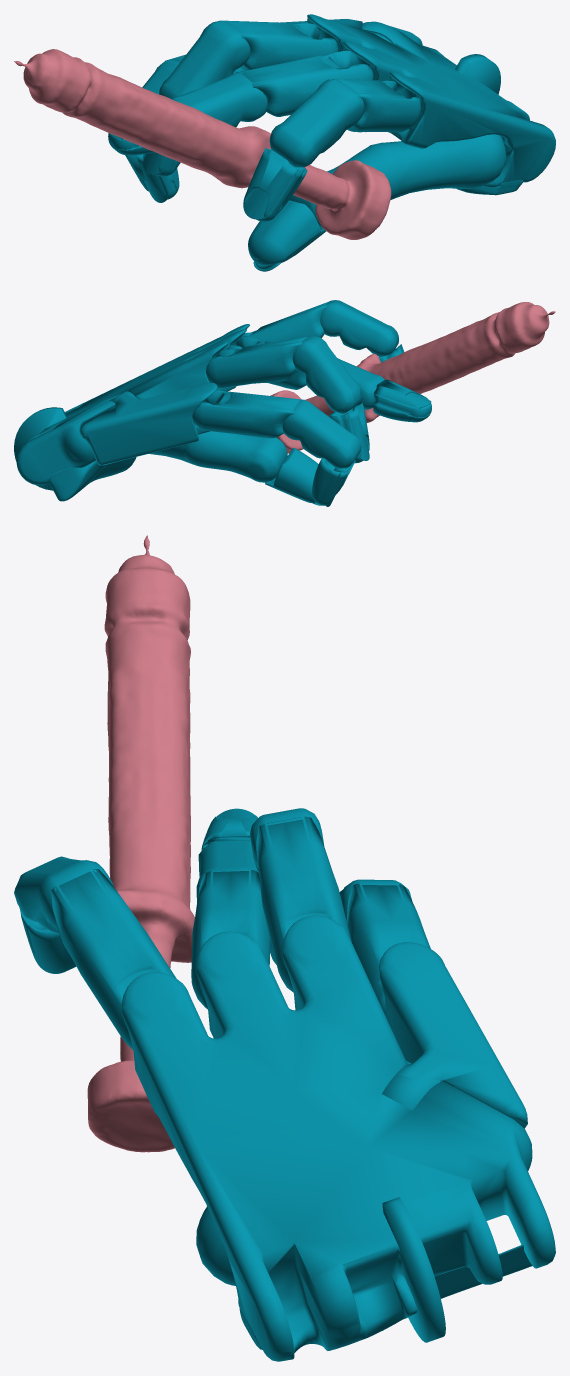
The picture shows the model from 3 angles, top to bottom: view 1: azimuth 30°, elevation 25°; view 2: azimuth 150°, elevation 25°; view 3: azimuth 270°, elevation 25°; orthographic projection. The views are drawn at different scales.
Parts seen in each view (by area): view 1: world; view 2: world; view 3: world.
Boxes of the visible parts, left/top/right/bottom form: world: left=14, top=14, right=555, bottom=271; world: left=14, top=300, right=555, bottom=506; world: left=14, top=535, right=555, bottom=1361.
Bounding box in the file's own units: 0.2538 × 0.1211 × 0.1385.
